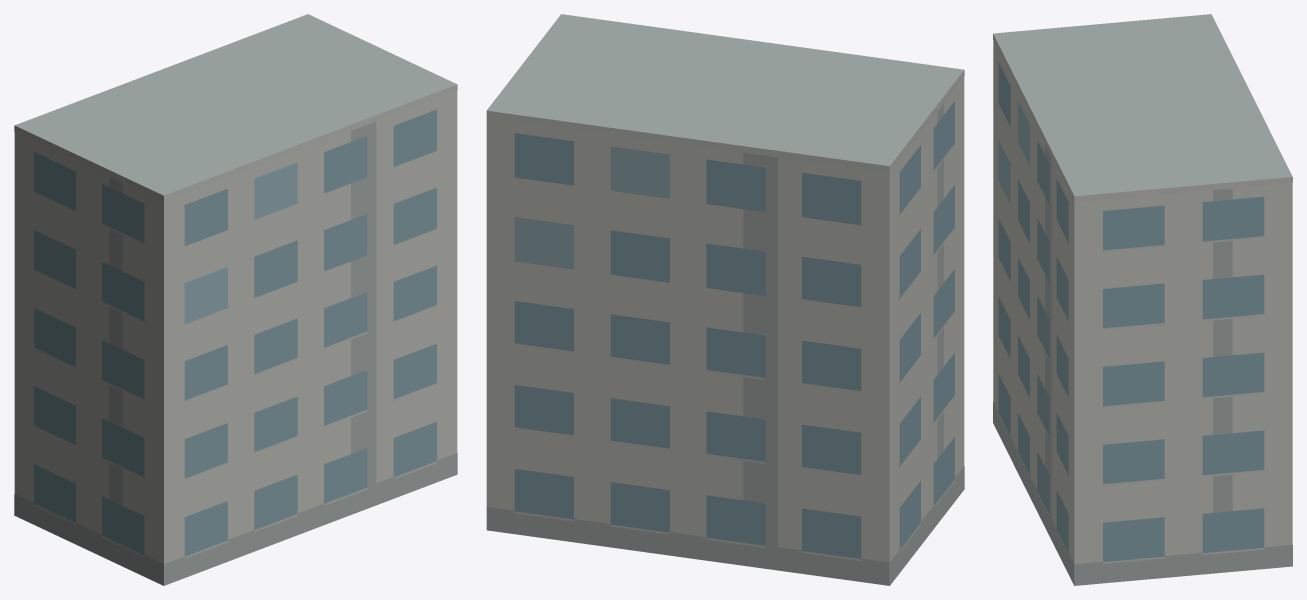
Rendered from residential-7a74bd75-6927-4daa-80ad-608c3c8a3953.glb.
The picture shows the model from 3 angles, left to right: view 1: azimuth 30°, elevation 25°; view 2: azimuth 150°, elevation 25°; view 3: azimuth 270°, elevation 25°; orthographic projection. The views are drawn at different scales.
Visible parts, largest first — view 1: residential-7a74bd75-6927-4daa-80ad-608c3c8a3953.tmp; view 2: residential-7a74bd75-6927-4daa-80ad-608c3c8a3953.tmp; view 3: residential-7a74bd75-6927-4daa-80ad-608c3c8a3953.tmp.
Part boxes in pixels (x1,y1,x2,y2): residential-7a74bd75-6927-4daa-80ad-608c3c8a3953.tmp: (14,14,457,585); residential-7a74bd75-6927-4daa-80ad-608c3c8a3953.tmp: (486,14,964,585); residential-7a74bd75-6927-4daa-80ad-608c3c8a3953.tmp: (993,14,1292,585).
Bounding box in the file's own units: 15.31 × 15.25 × 10.64.
